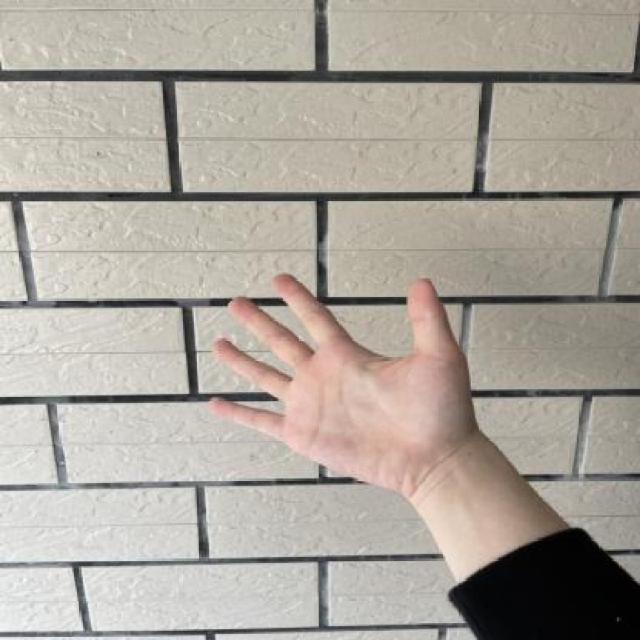no_glove: (196, 264, 479, 491)
